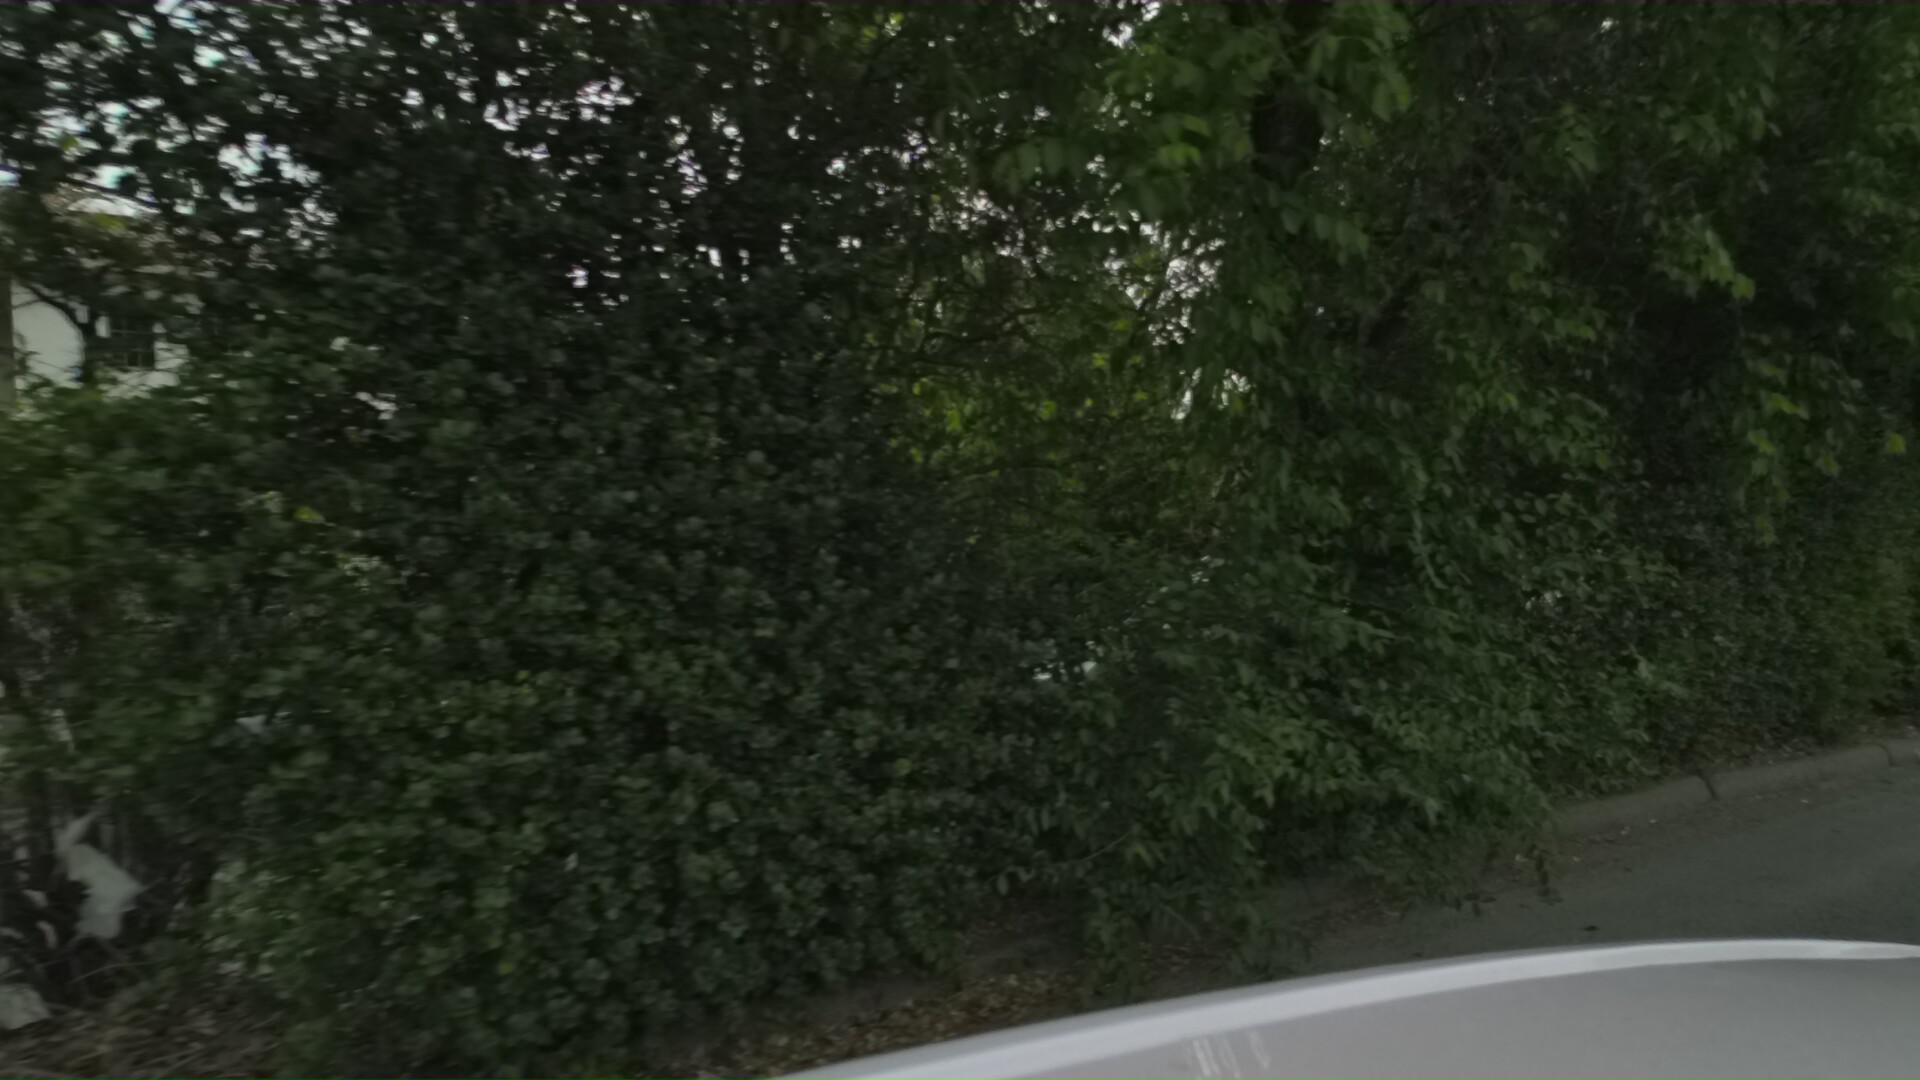car: (179, 607, 799, 909)
